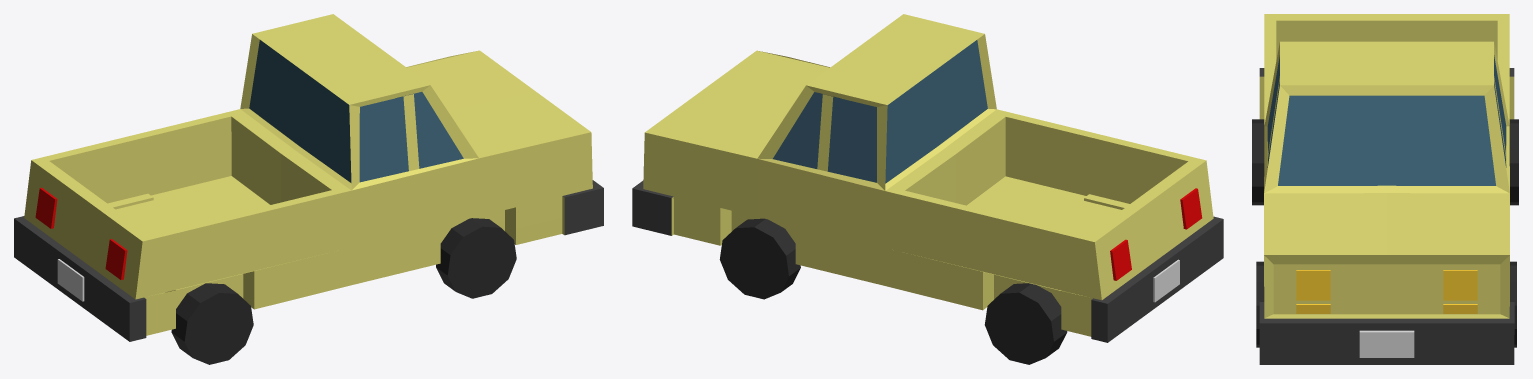
Rendered from Car3.fbx.
3 views of the same model, side by side, from view 1: azimuth 30°, elevation 25°; view 2: azimuth 150°, elevation 25°; view 3: azimuth 270°, elevation 25° (orthographic). The views are drawn at different scales.
Parts seen in each view (by area): view 1: Cube, Cylinder; view 2: Cube, Cylinder; view 3: Cube, Cylinder.
Boxes of the visible parts, <box> form: Cube: <box>14,14,603,341</box>; Cylinder: <box>171,218,516,364</box>; Cube: <box>632,14,1223,342</box>; Cylinder: <box>719,218,1067,364</box>; Cube: <box>1259,14,1514,364</box>; Cylinder: <box>1252,119,1518,347</box>.
Size of the model in its own units: 786 by 335 by 344.
